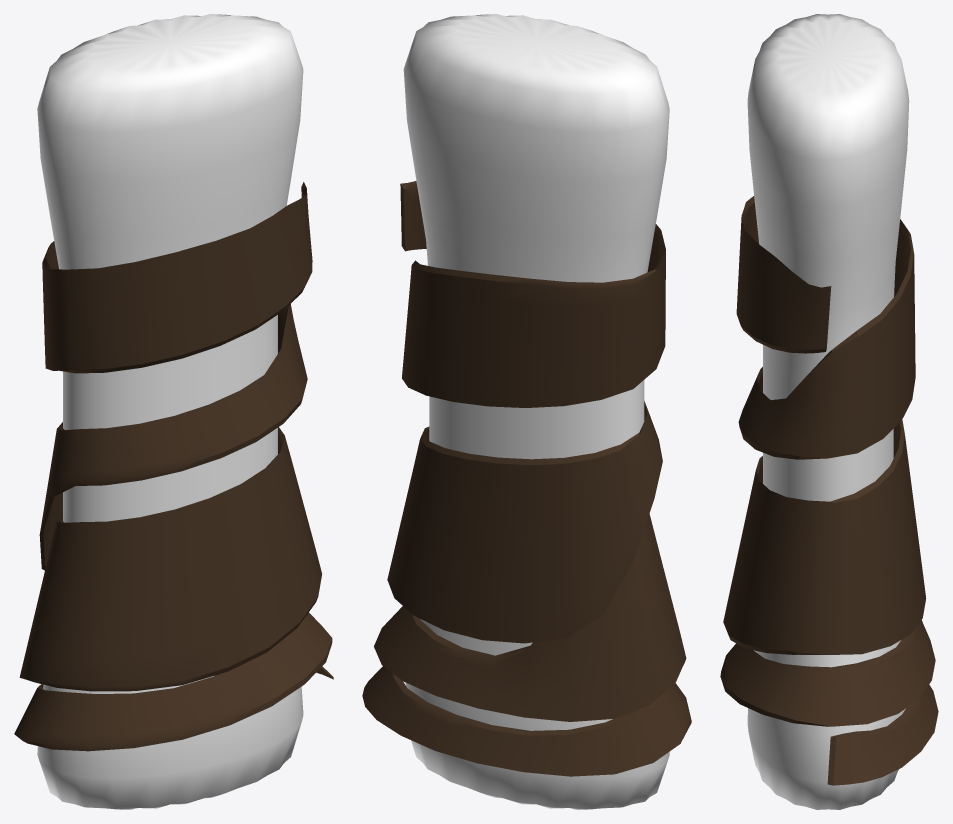
Rendered from leatherwrap.glb.
The picture shows the model from 3 angles, left to right: view 1: azimuth 30°, elevation 25°; view 2: azimuth 150°, elevation 25°; view 3: azimuth 270°, elevation 25°; orthographic projection. The views are drawn at different scales.
Parts seen in each view (by area): view 1: nurbsToPoly1, pCylinder1; view 2: nurbsToPoly1, pCylinder1; view 3: nurbsToPoly1, pCylinder1.
Boxes of the visible parts, left/top/right/bottom form: nurbsToPoly1: left=14, top=182, right=333, bottom=751; pCylinder1: left=37, top=14, right=303, bottom=809; nurbsToPoly1: left=362, top=181, right=691, bottom=776; pCylinder1: left=403, top=14, right=669, bottom=809; nurbsToPoly1: left=720, top=196, right=938, bottom=785; pCylinder1: left=747, top=14, right=909, bottom=809.
Size of the model in its own units: 0.0151 by 0.0342 by 0.00951.
